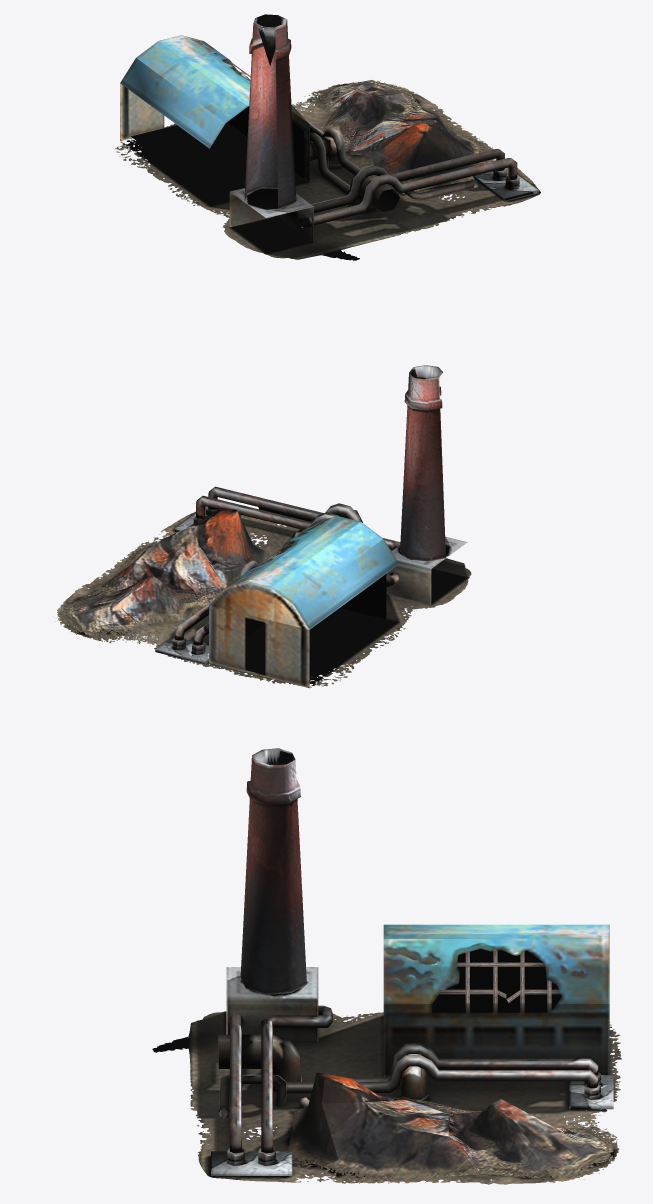
The model's file is kuangmai.FBX.
3 renders of one model, top to bottom at view 1: azimuth 30°, elevation 25°; view 2: azimuth 150°, elevation 25°; view 3: azimuth 270°, elevation 25°, orthographic. The views are drawn at different scales.
Parts seen in each view (by area): view 1: kuangmai, kuangmai_di; view 2: kuangmai, kuangmai_di; view 3: kuangmai, kuangmai_di.
Part boxes in pixels (x1,y1,x2,y2): kuangmai: (120, 14, 538, 241); kuangmai_di: (115, 82, 540, 260); kuangmai: (57, 365, 467, 688); kuangmai_di: (57, 511, 471, 687); kuangmai: (211, 748, 617, 1183); kuangmai_di: (152, 1011, 621, 1184).
Size of the model in its own units: 726 by 415 by 826.
